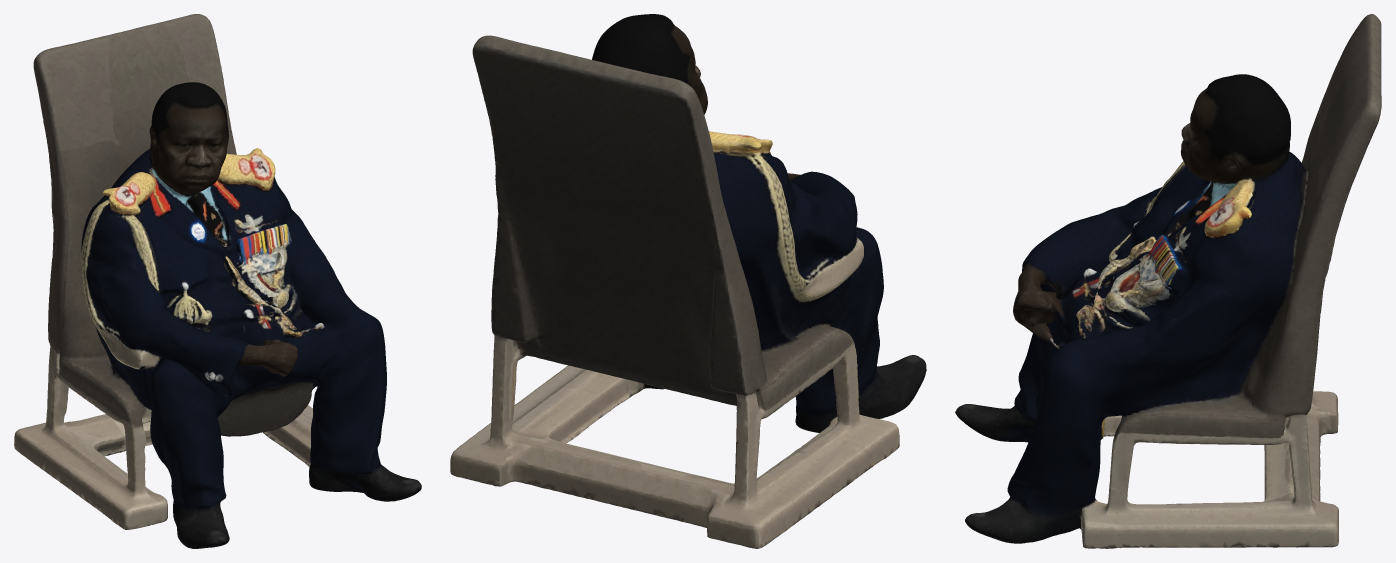
File: idi_amin_face_final.glb
3 renders of one model, left to right at view 1: azimuth 30°, elevation 25°; view 2: azimuth 150°, elevation 25°; view 3: azimuth 270°, elevation 25°, orthographic. The views are drawn at different scales.
Bounding box in the file's own units: 1.33 × 1.9 × 1.73.
1 material, 1 textured.
